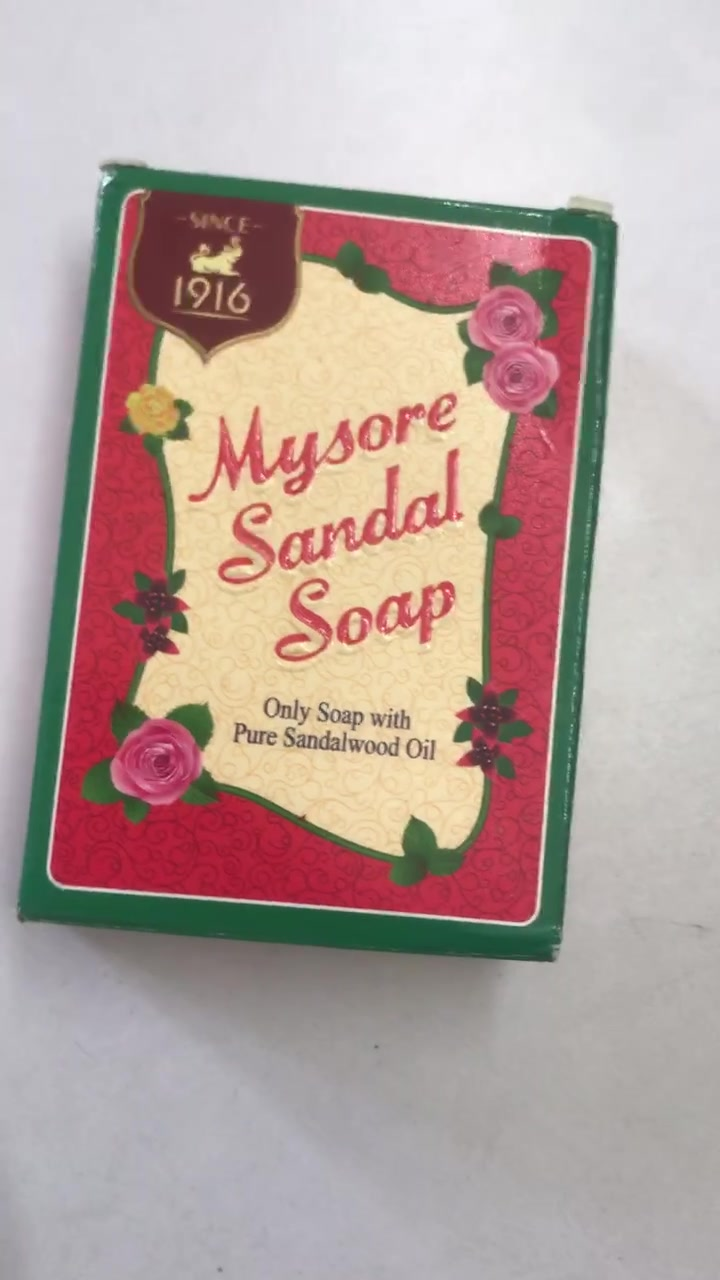mysore sandal soap: (19, 167, 603, 971)
